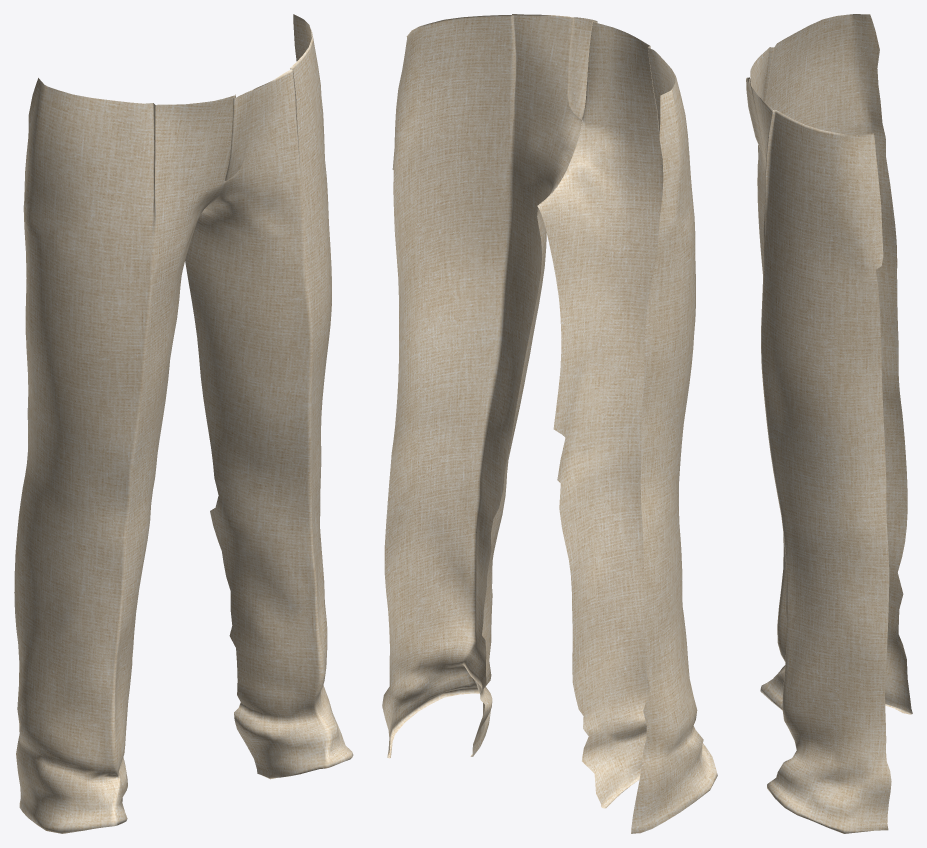
File: standard_single_pleat.glb
3 views of the same model, side by side, from view 1: azimuth 30°, elevation 25°; view 2: azimuth 150°, elevation 25°; view 3: azimuth 270°, elevation 25° (orthographic). The views are drawn at different scales.
Parts seen in each view (by area): view 1: standard_single_pleat2; view 2: standard_single_pleat2; view 3: standard_single_pleat2.
Boxes of the visible parts, x1=… form: standard_single_pleat2: x1=14, y1=14, x2=353, y2=833; standard_single_pleat2: x1=382, y1=14, x2=717, y2=833; standard_single_pleat2: x1=746, y1=14, x2=912, y2=833.
Size of the model in its own units: 0.0545 by 0.1247 by 0.027.
1 material, 1 textured.
